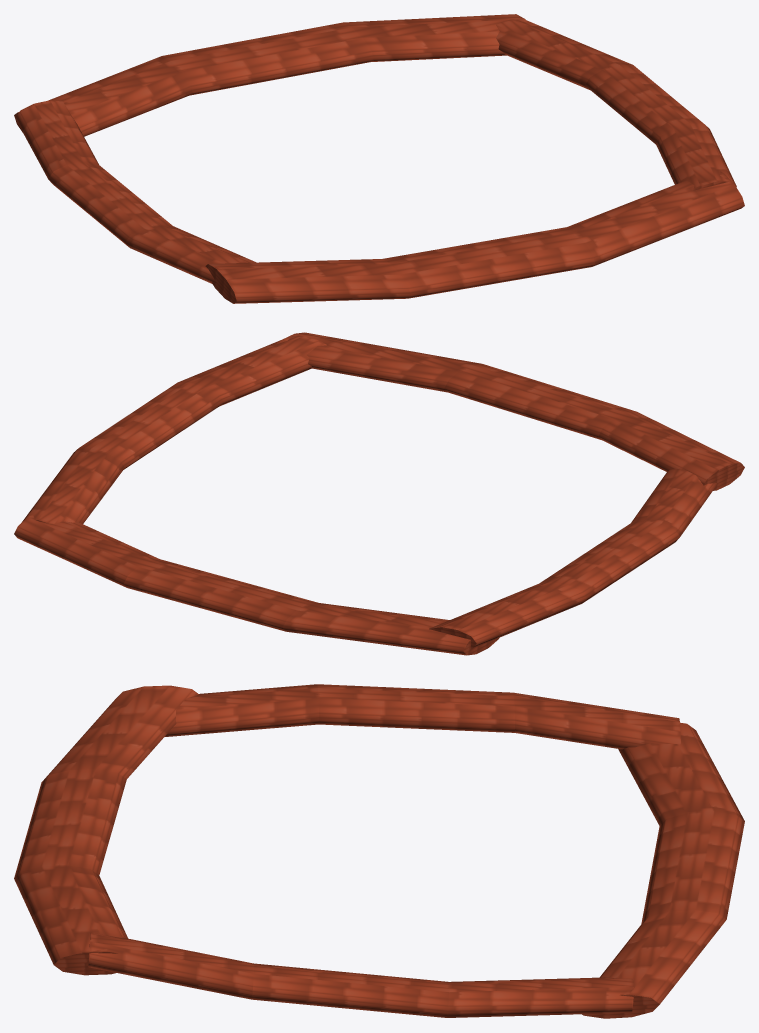
Rendered from onderdakpijpen.fbx.
3 renders of one model, top to bottom at view 1: azimuth 30°, elevation 25°; view 2: azimuth 150°, elevation 25°; view 3: azimuth 270°, elevation 25°, orthographic. The views are drawn at different scales.
Visible parts, largest first — view 1: pCylinder105, pCylinder110, pCylinder112, pCylinder111; view 2: pCylinder105, pCylinder110, pCylinder112, pCylinder111; view 3: pCylinder105, pCylinder110, pCylinder111, pCylinder112.
Part boxes in pixels (x1=…): pCylinder105: x1=205, y1=171, x2=744, y2=303; pCylinder110: x1=14, y1=14, x2=528, y2=136; pCylinder112: x1=496, y1=19, x2=736, y2=190; pCylinder111: x1=15, y1=100, x2=256, y2=283; pCylinder105: x1=276, y1=332, x2=744, y2=490; pCylinder110: x1=14, y1=514, x2=499, y2=655; pCylinder112: x1=21, y1=336, x2=326, y2=523; pCylinder111: x1=429, y1=468, x2=717, y2=648; pCylinder105: x1=14, y1=685, x2=198, y2=975; pCylinder110: x1=582, y1=722, x2=744, y2=1018; pCylinder111: x1=165, y1=684, x2=680, y2=749; pCylinder112: x1=88, y1=932, x2=634, y2=1017.
Bounding box in the file's own units: 14.03 × 1.08 × 13.79.
